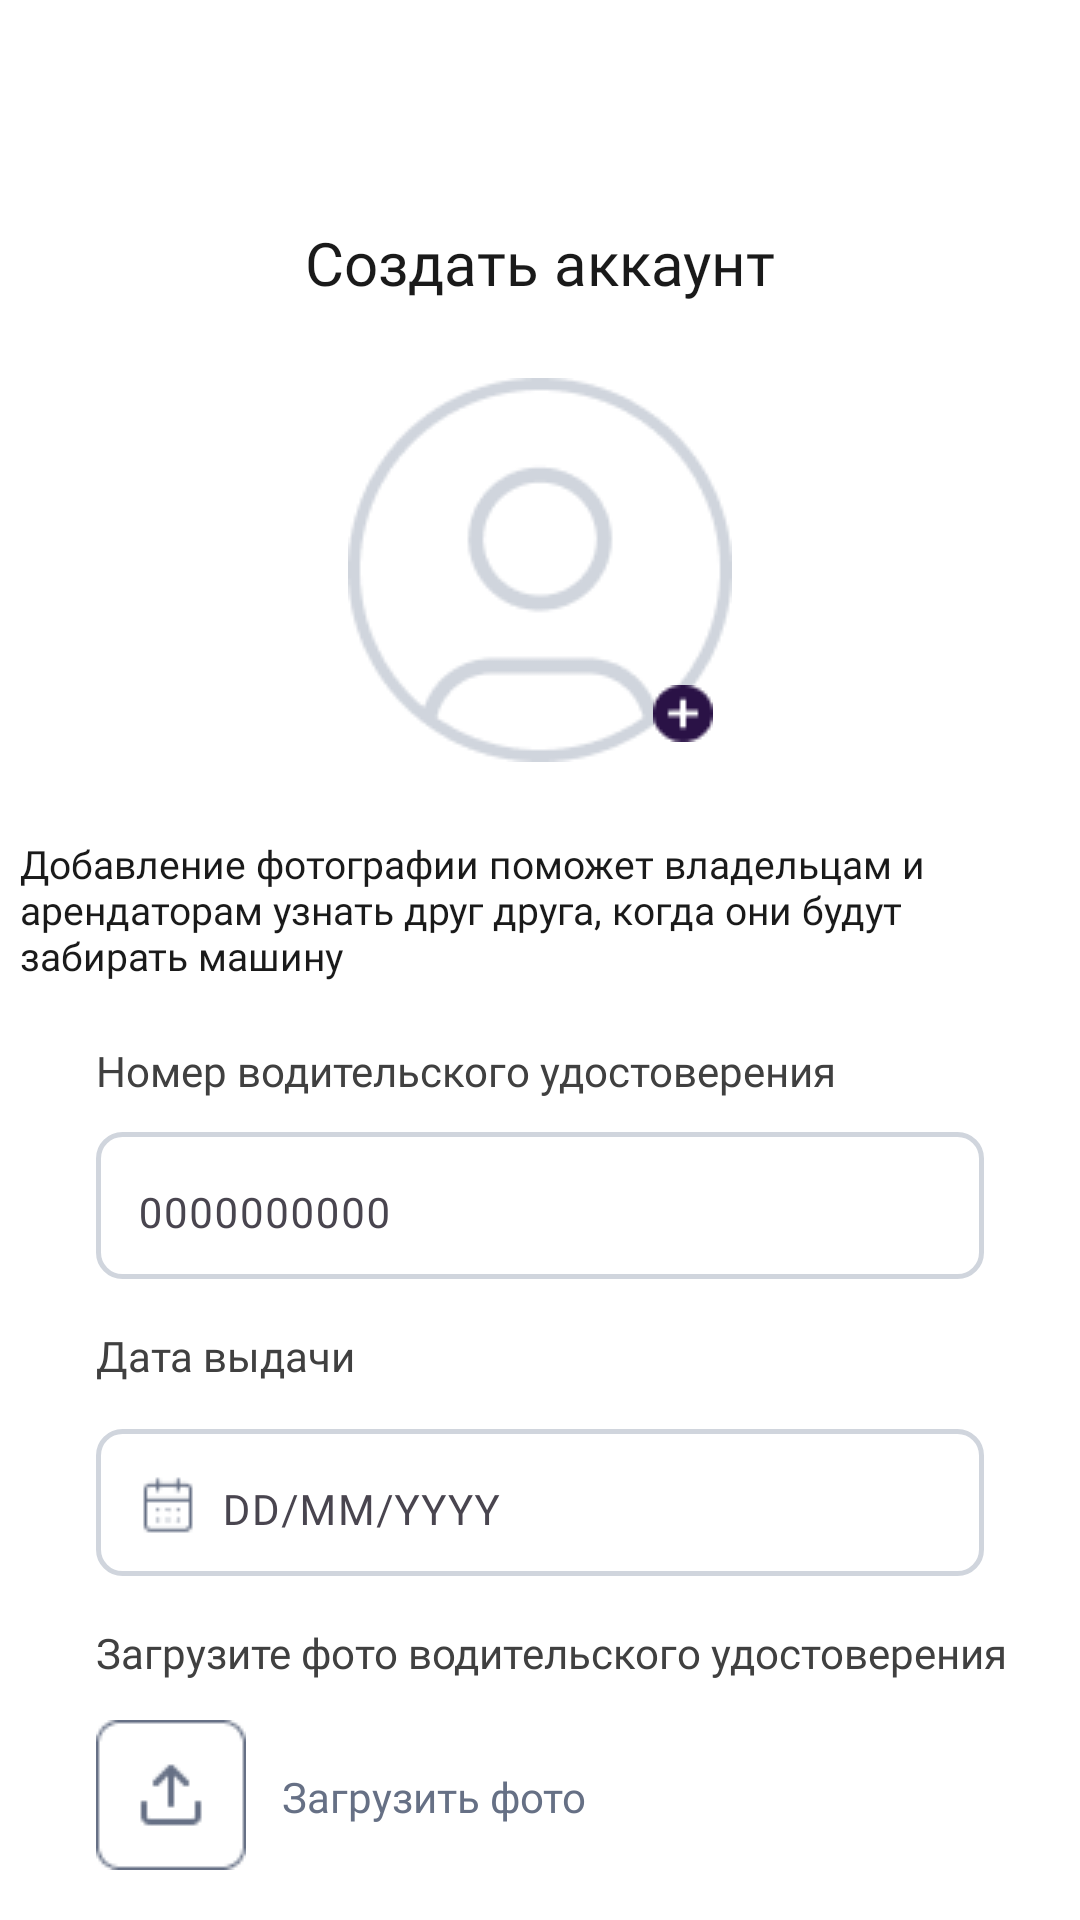

Locate icon controls on the screen. Image size 1080px×1920px, boxes as (x1, y1, x2, y2).
upload: (96, 1720, 246, 1870)
